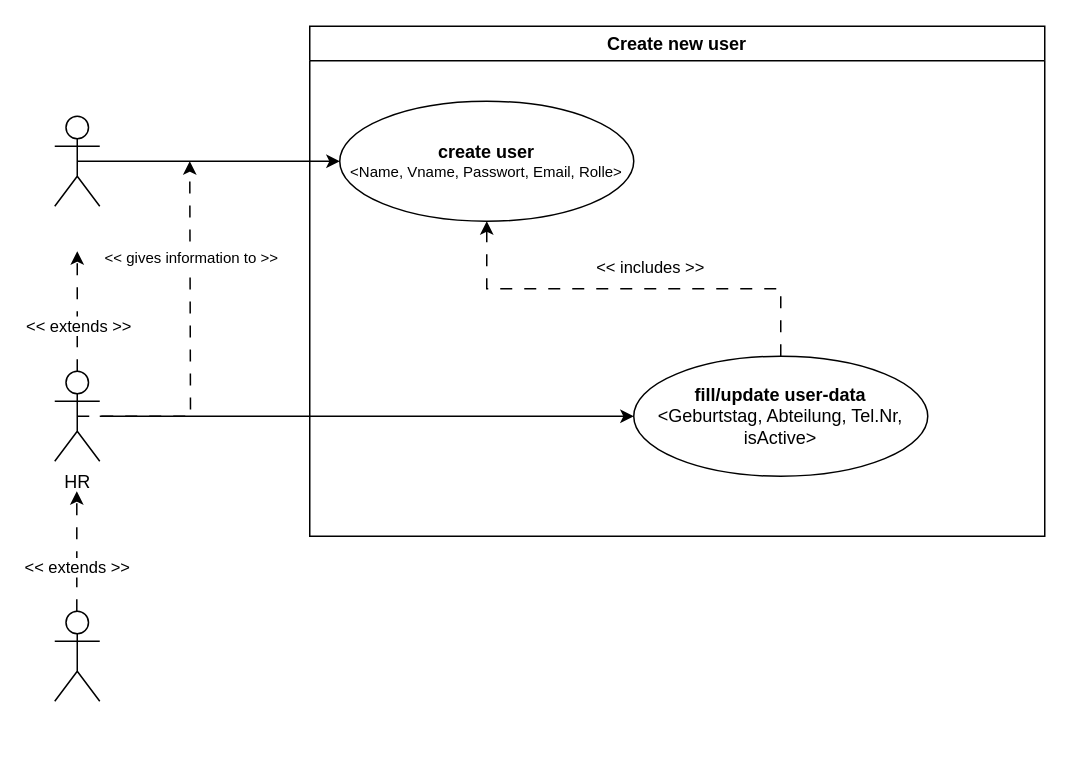
Some shapes in this 1073 by 759 pixel diagram are drawn without their labels. The box of each missing label's shape, as (x1, y1, x2, y2) in pixels:
Admin: (53, 115, 100, 206)
User: (53, 610, 100, 701)
